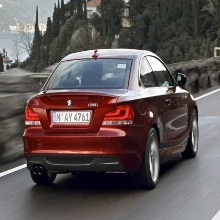no damage: (22, 48, 200, 188)
